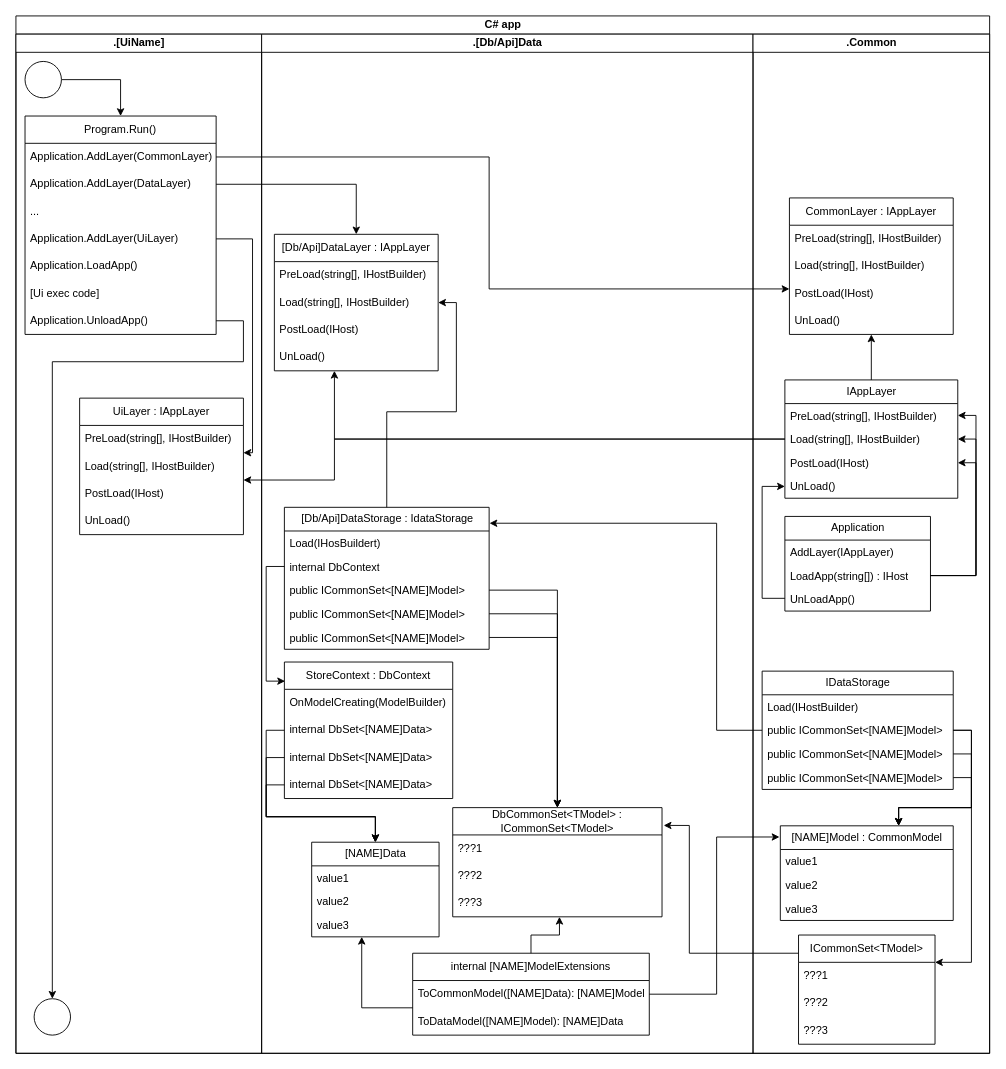
This 1006x1069 diagram has some shape labels left out. Each missing label, with the centre of its shape:
End: pixel 52 1016
Start: pixel 42 79
